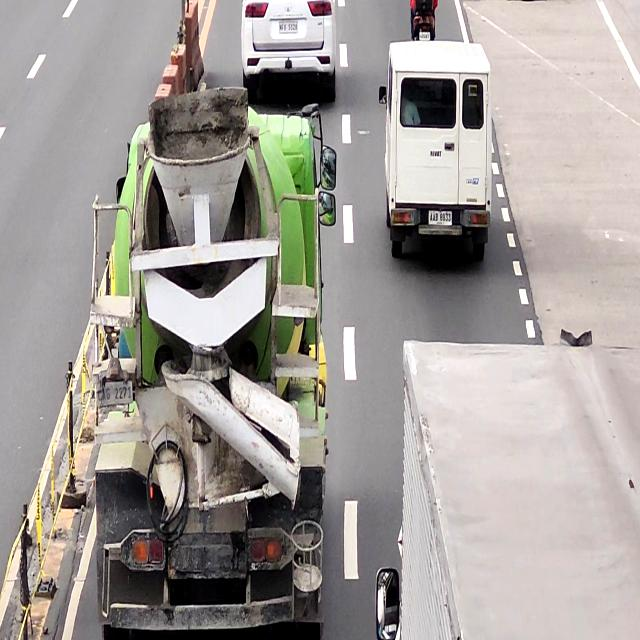Car: (378, 40, 493, 261), (239, 0, 338, 101)
License-Plate: (428, 208, 453, 227), (278, 22, 298, 34)
Truck: (95, 109, 336, 640), (375, 338, 640, 639)
